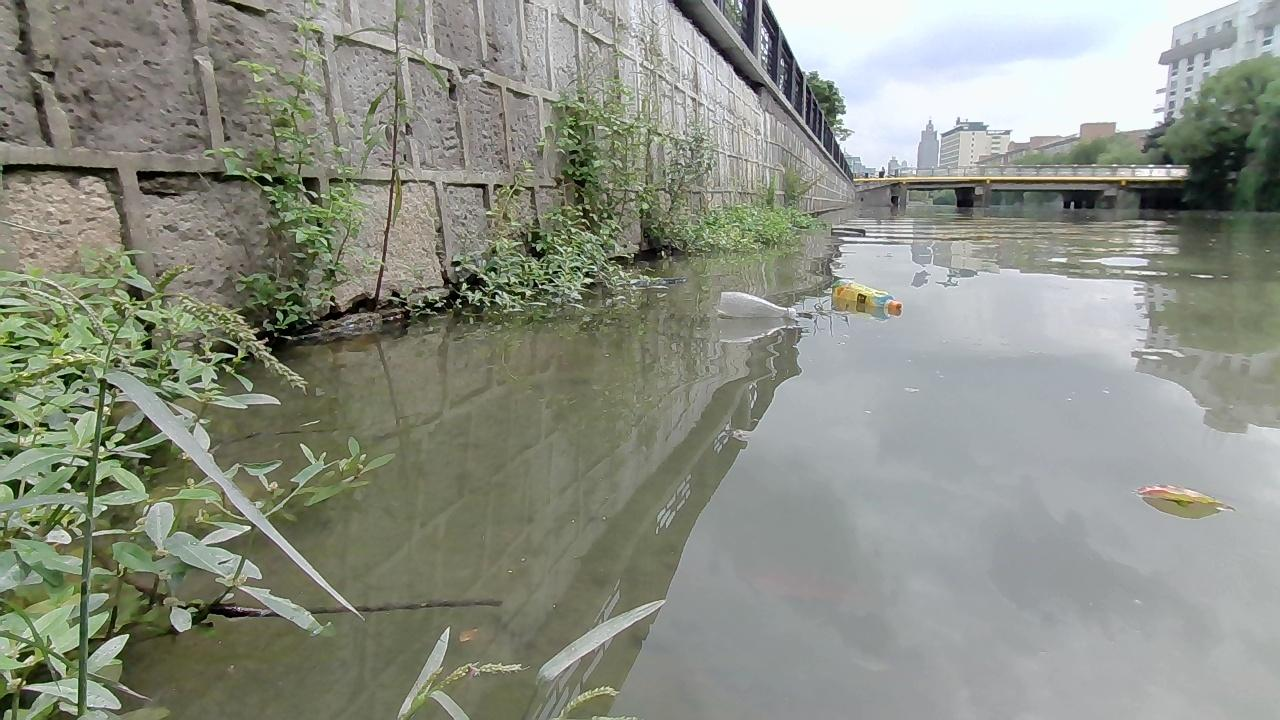bottle: (715, 286, 796, 328), (833, 277, 902, 316)
